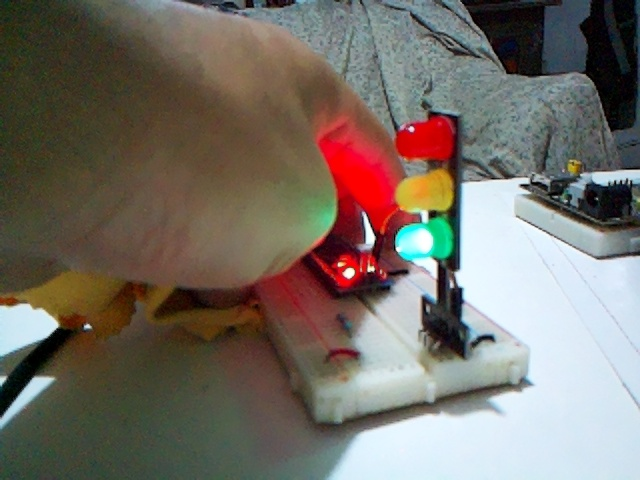traffic_light_green: (390, 111, 465, 330)
